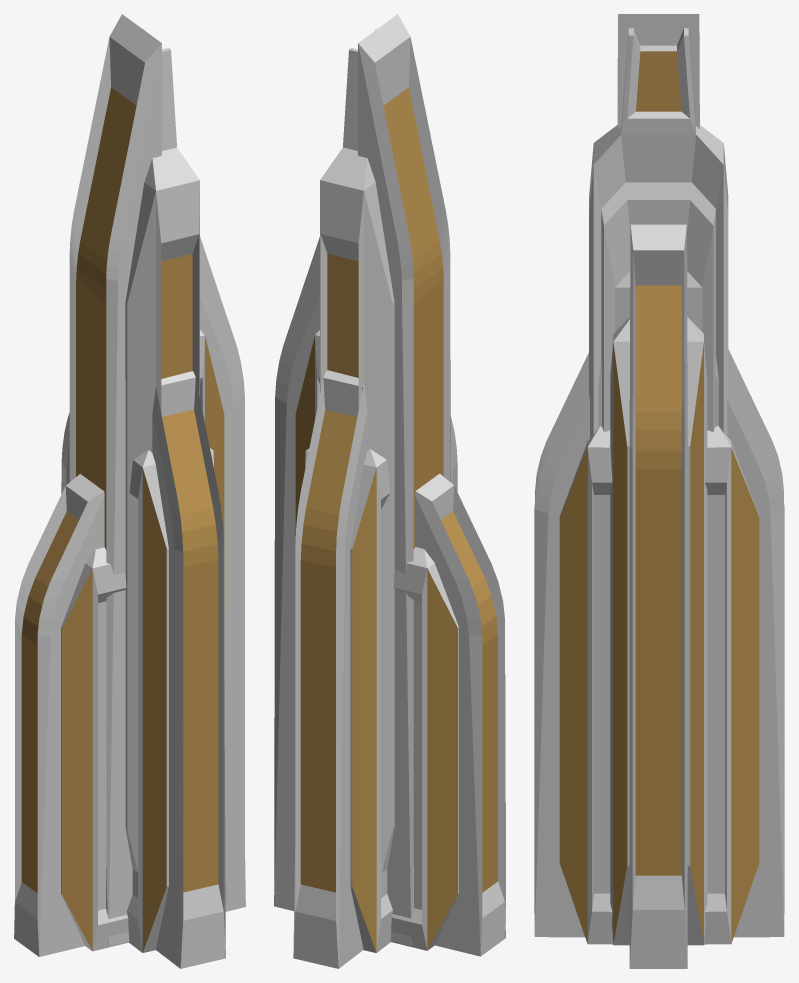
The model's file is Skyscraper4.glb.
3 renders of one model, left to right at view 1: azimuth 30°, elevation 25°; view 2: azimuth 150°, elevation 25°; view 3: azimuth 270°, elevation 25°, orthographic. The views are drawn at different scales.
Parts seen in each view (by area): view 1: Skyscraper 3; view 2: Skyscraper 3; view 3: Skyscraper 3.
Part boxes in pixels (x1,y1,x2,y2): Skyscraper 3: (14, 14, 245, 968); Skyscraper 3: (274, 14, 505, 968); Skyscraper 3: (534, 14, 784, 968).
Size of the model in its own units: 26.82 by 111 by 27.61.
